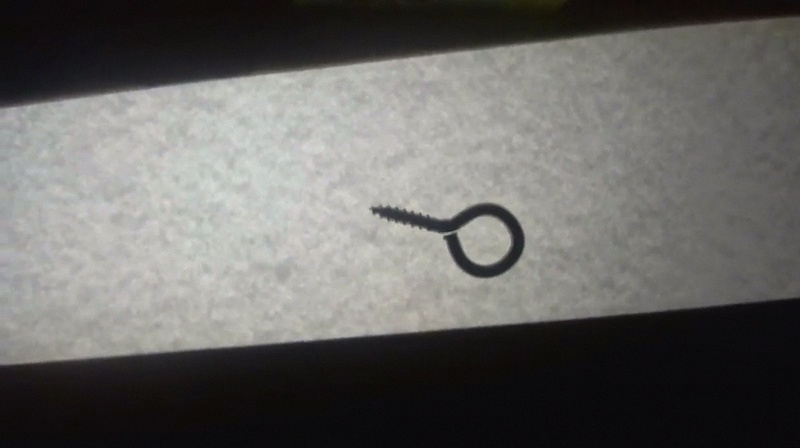O001: (367, 202, 528, 281)
